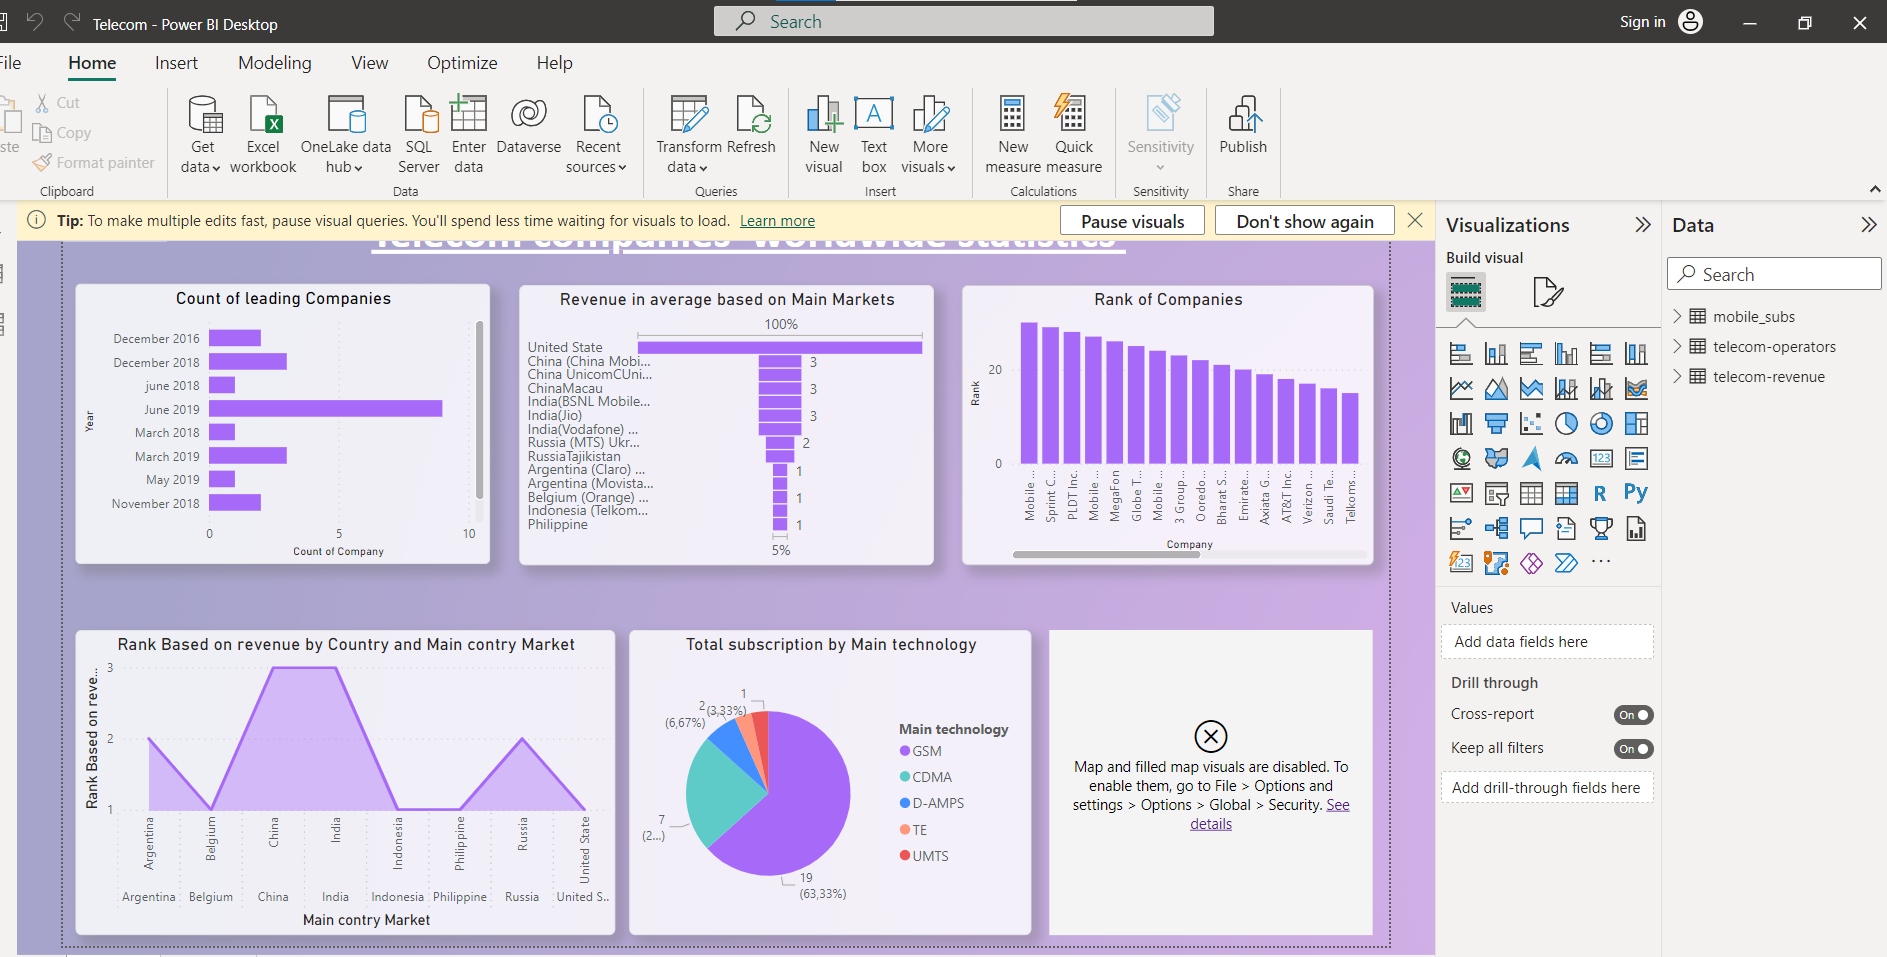

Layout of this report page (visuals, bound fields, positions):
{"tool":"powerbi","page":{"name":"Page 1","canvas":[1280,720],"ordinal":0},"visuals":[{"type":"barChart","title":"Count of leading Companies  ","fields":{"Y":["CountNonNull(telecom-operators.Company)"],"Category":["telecom-operators.Year"]},"box":[12.1,80.8,400,270],"z":0},{"type":"areaChart","fields":{"Category":["telecom-revenue.Country","telecom-operators.Main contry Market"],"Y":["CountNonNull(telecom-operators.Rank)"]},"box":[12.1,414.9,521,294.3],"z":1000},{"type":"pieChart","fields":{"Category":["telecom-operators.Main technology"],"Y":["CountNonNull(telecom-operators.Rank)"]},"box":[546.3,414.9,388.3,294.3],"z":2000},{"type":"actionButton","box":[0,0,100,40],"z":3000},{"type":"textbox","box":[229.1,0,864.7,69.9],"z":4000},{"type":"funnel","title":"Revenue in average       based on  Main Markets","fields":{"Category":["telecom-operators.Main Markets"],"Y":["CountNonNull(telecom-revenue.Revenue in average)"]},"box":[440.3,82.1,399.9,270.1],"z":5000},{"type":"filledMap","title":"Companies locations","fields":{"Category":["telecom-revenue.Country"]},"box":[951.6,414.9,312.4,294.3],"z":6000},{"type":"columnChart","title":"Rank  of Companies","fields":{"Category":["telecom-operators.Company"],"Y":["Sum(telecom-operators.Rank)"]},"box":[867.6,82.1,397.5,270.1],"z":7000}]}

Visuals, with their boxes on the page's 1280x720 design canvas (x1, y1, x2, y2). These are canvas units, not pixel positions in the 1887x957 screenshot, which may show the page scaled, cropped or inside an application window:
"Count of leading Companies  " barChart: <bbox>12, 81, 412, 351</bbox>
areaChart - telecom-revenue.Country x telecom-operators.Main contry Market: <bbox>12, 415, 533, 709</bbox>
pieChart - telecom-operators.Main technology x CountNonNull(telecom-operators.Rank): <bbox>546, 415, 935, 709</bbox>
actionButton: <bbox>0, 0, 100, 40</bbox>
textbox: <bbox>229, 0, 1094, 70</bbox>
"Revenue in average       based on  Main Markets" funnel: <bbox>440, 82, 840, 352</bbox>
"Companies locations" filledMap: <bbox>952, 415, 1264, 709</bbox>
"Rank  of Companies" columnChart: <bbox>868, 82, 1265, 352</bbox>
